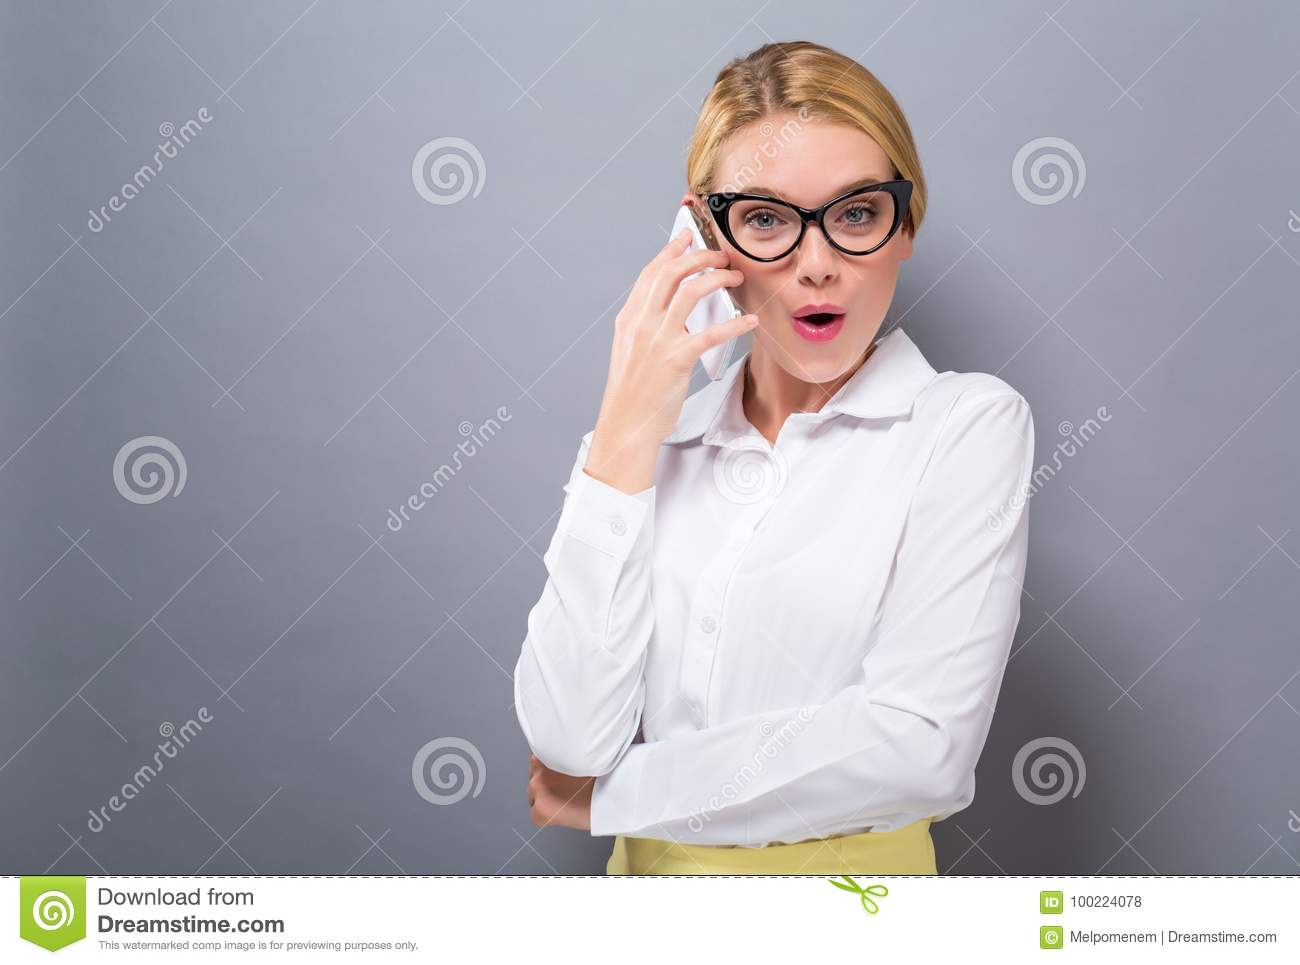phone: (661, 203, 740, 388)
talk: (602, 166, 897, 451)
